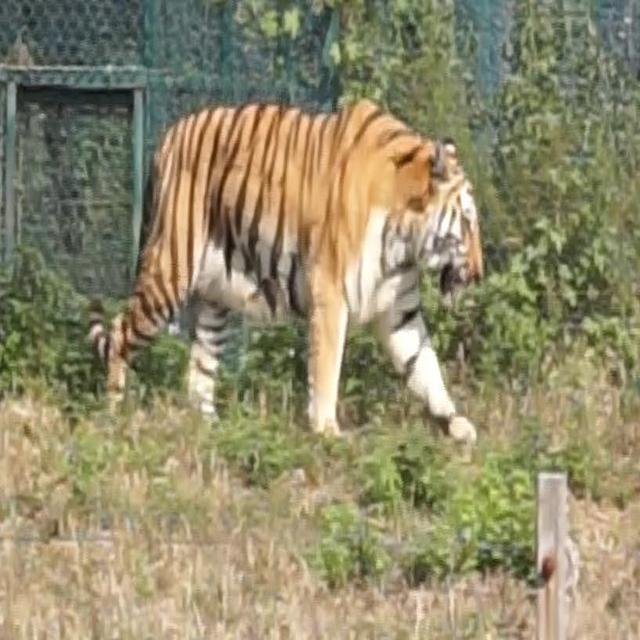tiger: (84, 95, 484, 452)
